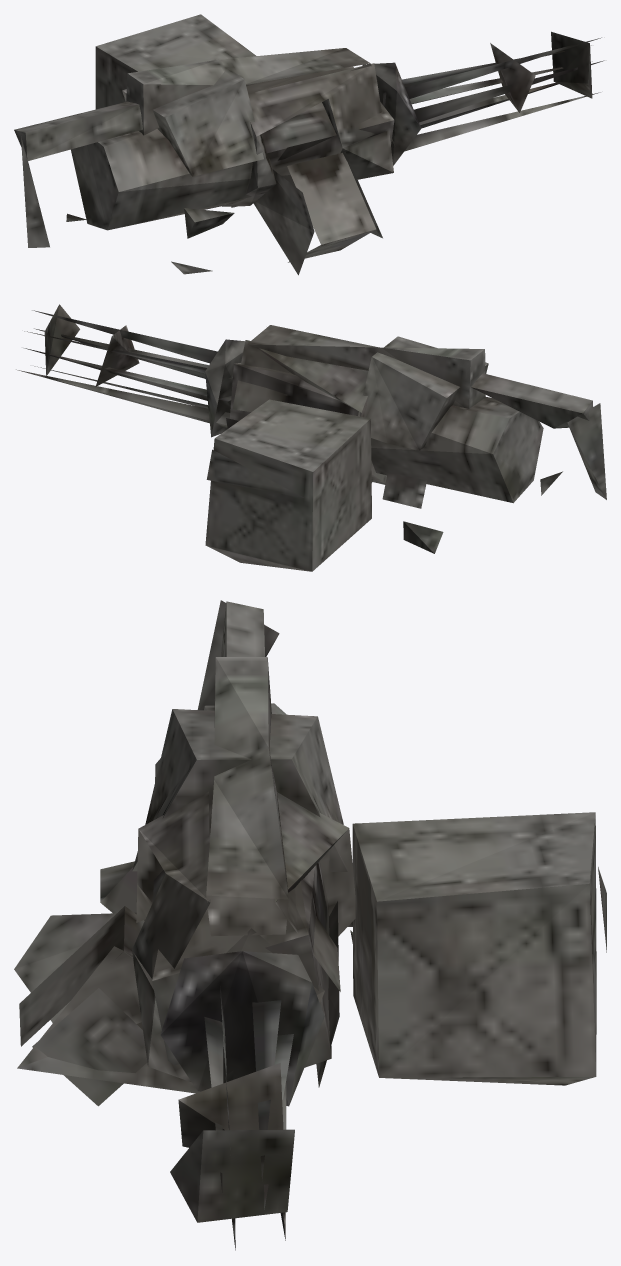
File: prop.minigun.lod.glb
3 renders of one model, top to bottom at view 1: azimuth 30°, elevation 25°; view 2: azimuth 150°, elevation 25°; view 3: azimuth 270°, elevation 25°, orthographic. The views are drawn at different scales.
Visible parts, largest first — view 1: body; view 2: body; view 3: body.
Boxes of the visible parts, left/top/right/bottom form: body: left=14, top=14, right=604, bottom=275; body: left=16, top=304, right=606, bottom=571; body: left=14, top=600, right=606, bottom=1250.
Size of the model in its own units: 0.65 by 0.2066 by 0.3376.
1 material, 1 textured.
